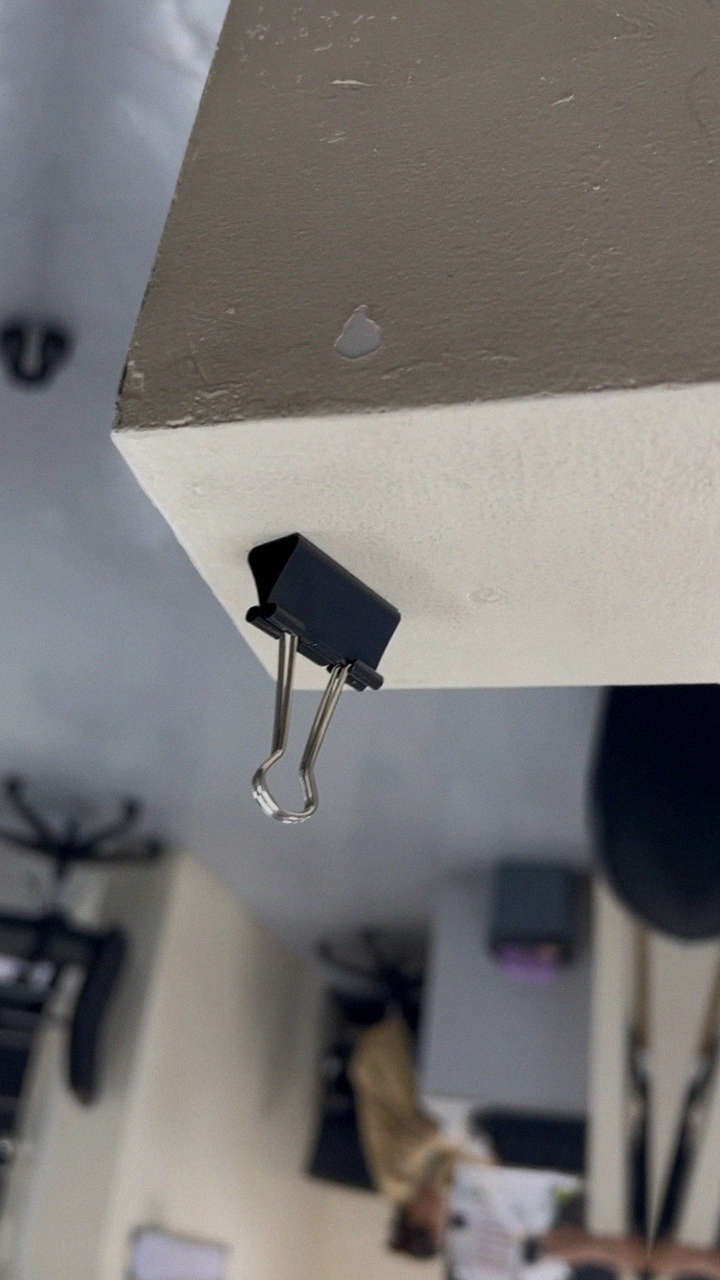kep_giay: (211, 522, 413, 837)
